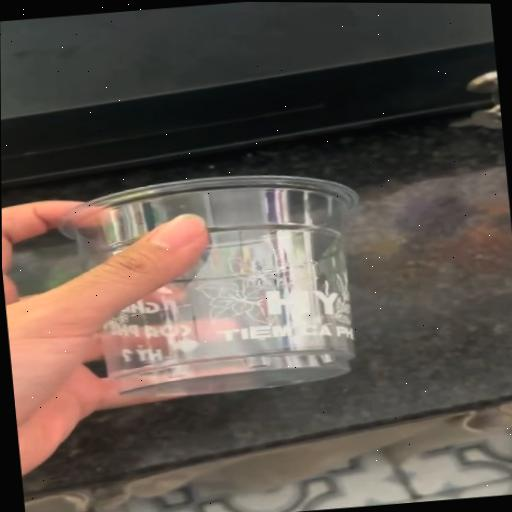Ly_giay: (66, 176, 357, 396)
ly_nhua: (61, 176, 355, 397)
